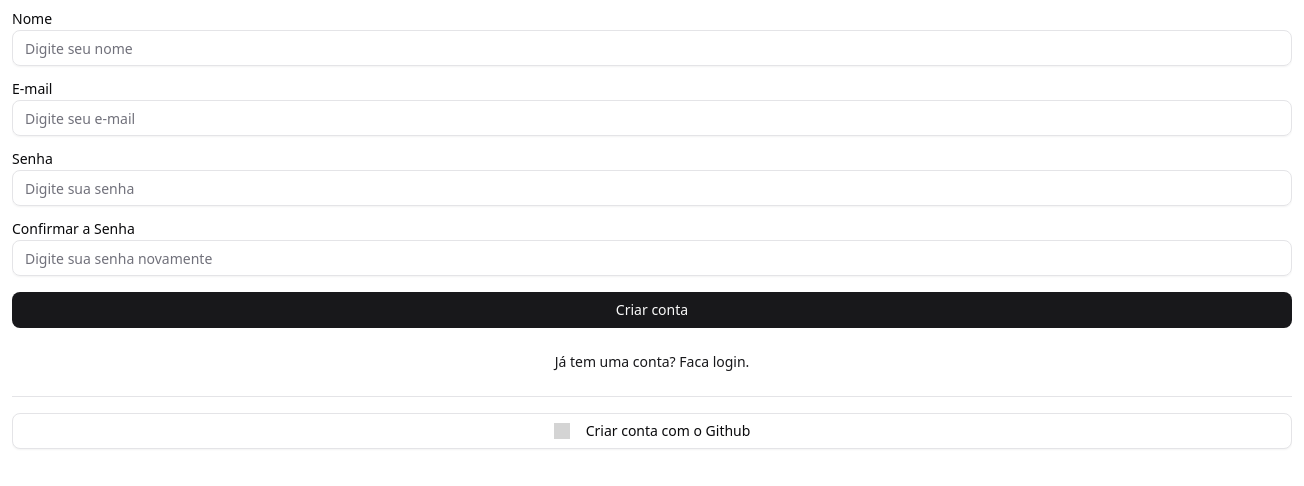
<SignUpForm /> › should show email validation error
In the field named "e-mail": (652, 48) [12,30,1292,66], type "invalid-email"
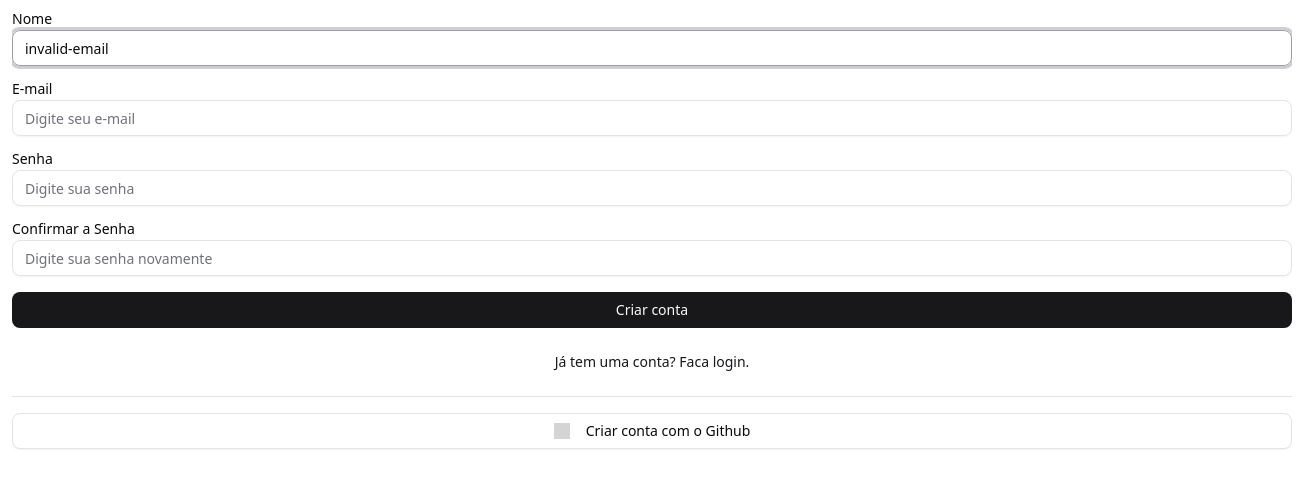
Click the button "Criar conta": (652, 310) [12,292,1292,328]
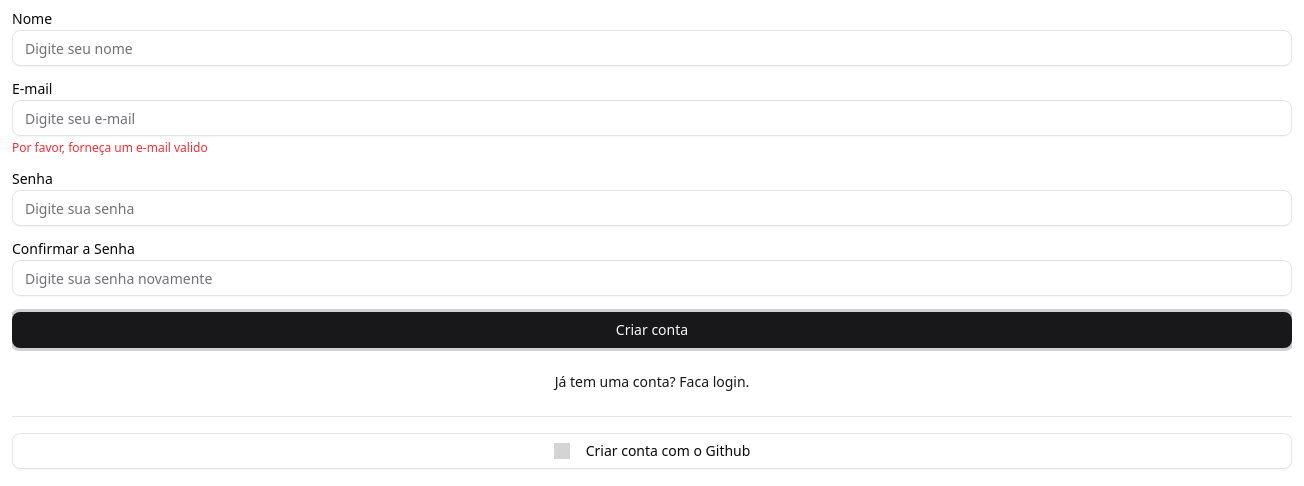
Expected: the text "Por favor, forneça um e-mail valido" is shown, [12,139,208,156]
